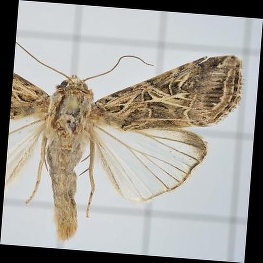Spodoptera litura: (8, 47, 237, 246)
